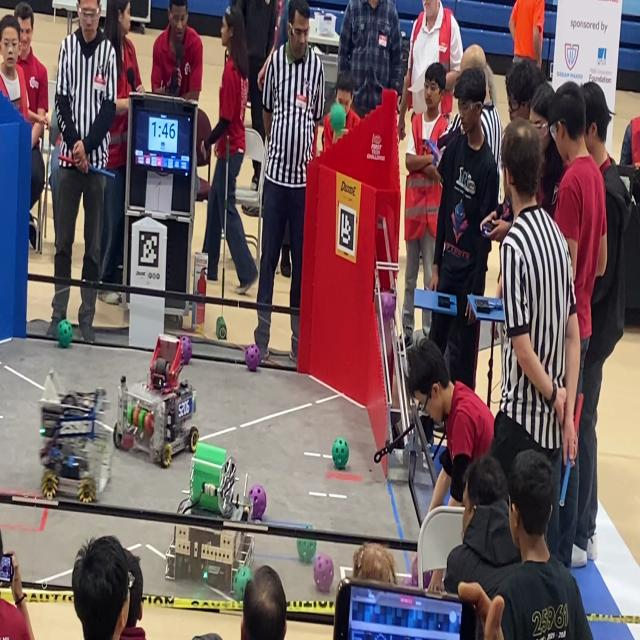artifact_green: (233, 566, 252, 602), (332, 438, 349, 469), (330, 103, 346, 135), (297, 539, 316, 564), (57, 320, 72, 348), (216, 316, 226, 340), (136, 409, 147, 429), (145, 412, 153, 436), (132, 406, 140, 427), (127, 404, 135, 424)
artifact_purple: (314, 553, 334, 593), (249, 485, 266, 519), (245, 344, 260, 372), (381, 292, 395, 321), (180, 335, 193, 365), (411, 556, 418, 586), (423, 571, 431, 588), (402, 576, 414, 586)
